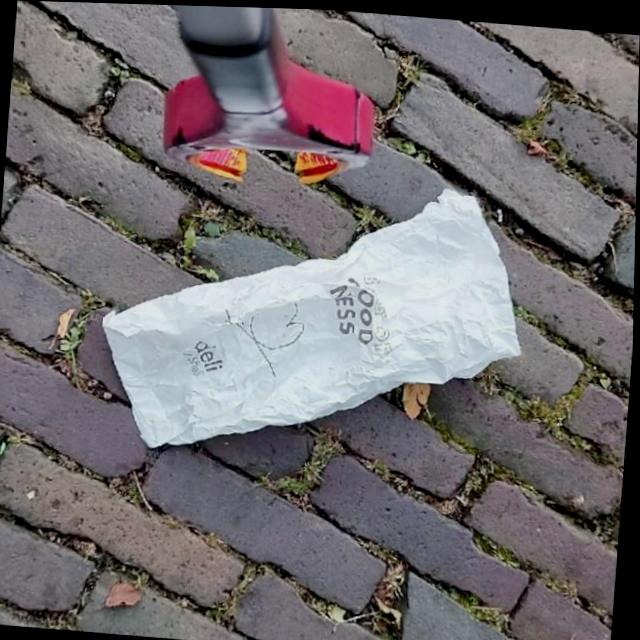Paper: (91, 156, 538, 479)
